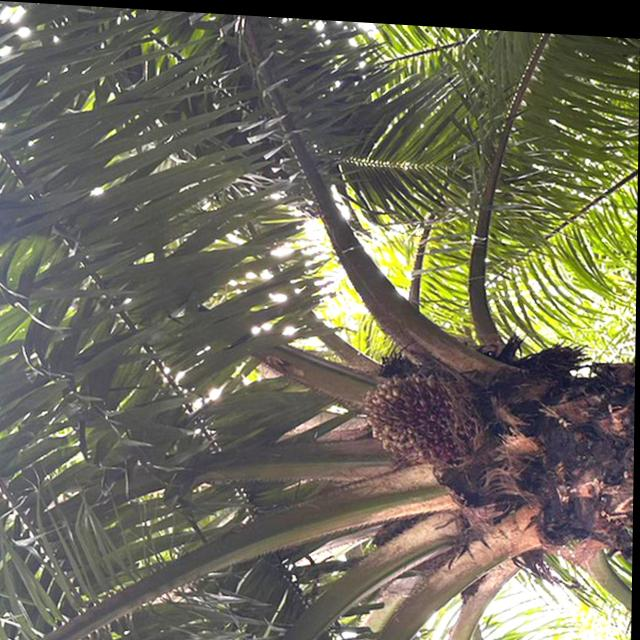ripe: (349, 348, 492, 479)
